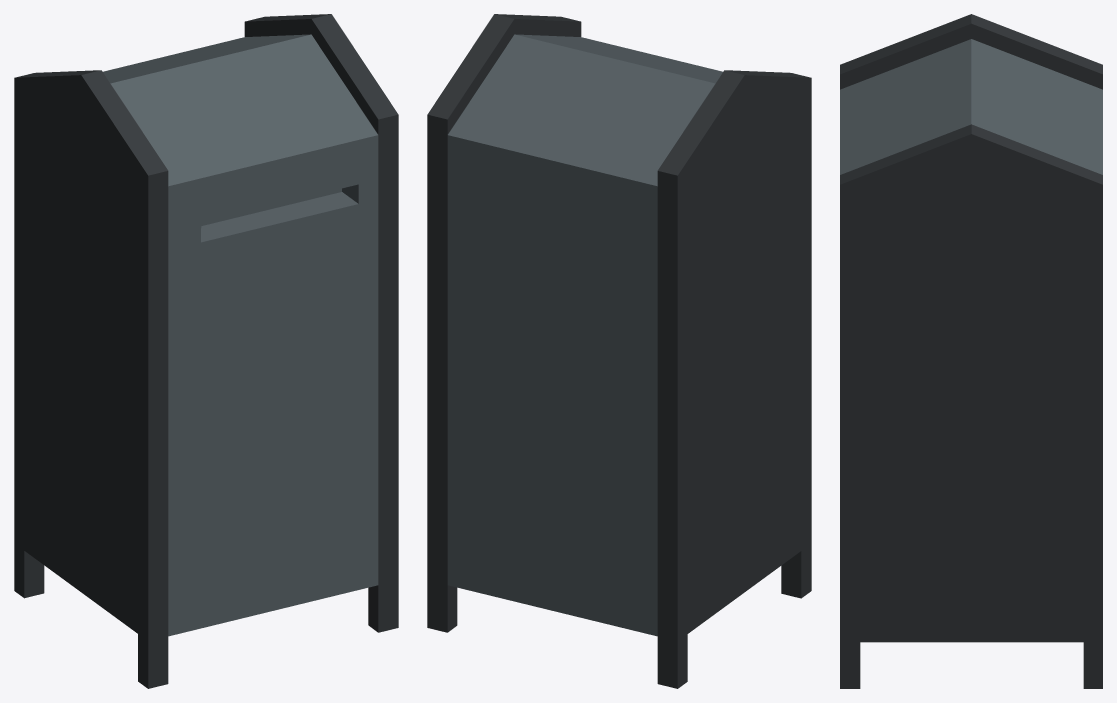
File: Road_Objects_Big_Mail_Box.fbx
The picture shows the model from 3 angles, left to right: view 1: azimuth 30°, elevation 25°; view 2: azimuth 150°, elevation 25°; view 3: azimuth 270°, elevation 25°; orthographic projection.
Visible parts, largest first — view 1: Road_Objects_Big_Mail_Box; view 2: Road_Objects_Big_Mail_Box; view 3: Road_Objects_Big_Mail_Box.
Boxes of the visible parts, x1=… form: Road_Objects_Big_Mail_Box: x1=14, y1=14, x2=398, y2=688; Road_Objects_Big_Mail_Box: x1=427, y1=14, x2=811, y2=688; Road_Objects_Big_Mail_Box: x1=840, y1=14, x2=1102, y2=688.
Size of the model in its own units: 55.87 by 120 by 51.7.
